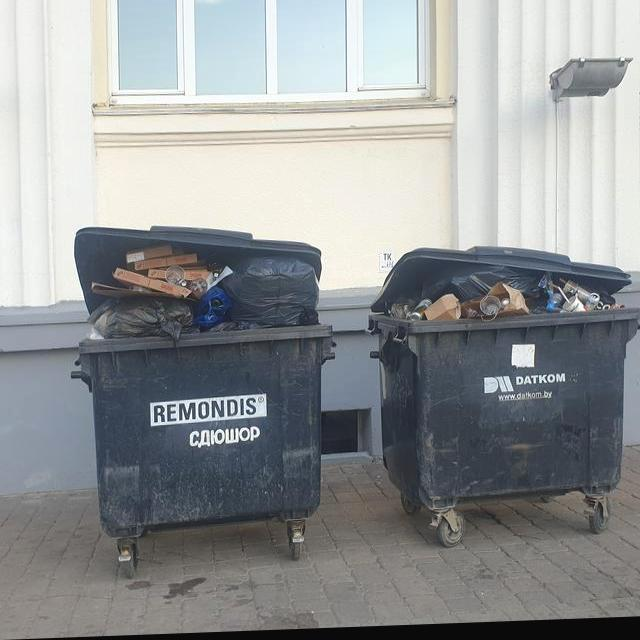Trash_Can_Full: (80, 239, 333, 538), (371, 265, 640, 516)
